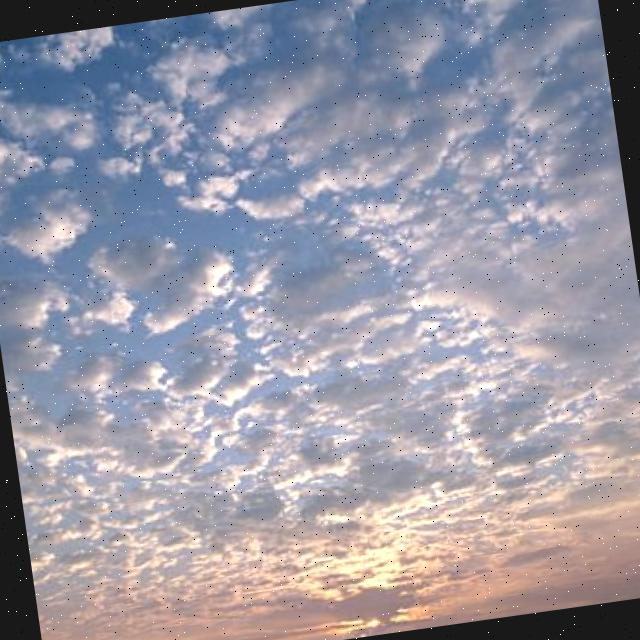Cc: (1, 36, 640, 640)
